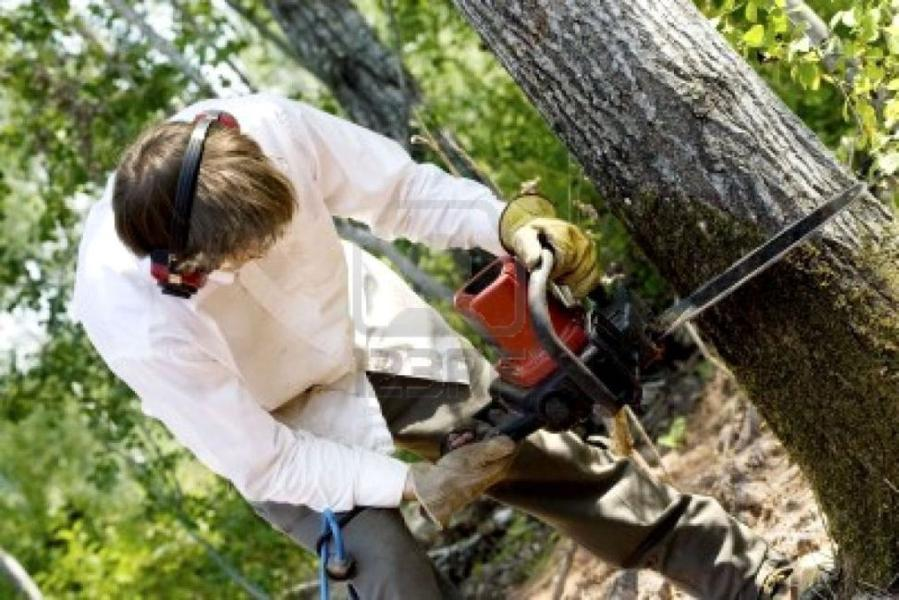person: (72, 92, 809, 600)
